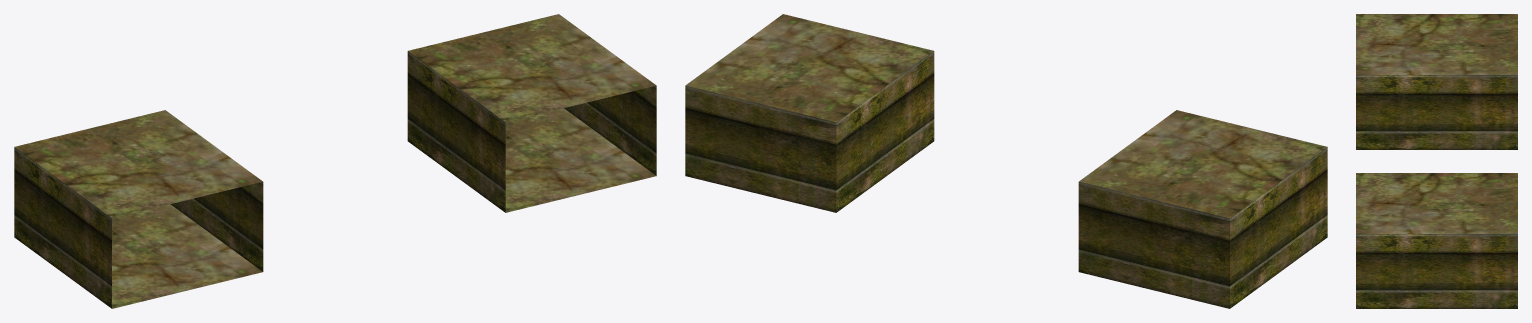
File: OVERHILL_A_01_LINE448.fbx
3 views of the same model, side by side, from view 1: azimuth 30°, elevation 25°; view 2: azimuth 150°, elevation 25°; view 3: azimuth 270°, elevation 25° (orthographic). The views are drawn at different scales.
Parts seen in each view (by area): view 1: OVERHILL_A_01_LINE448; view 2: OVERHILL_A_01_LINE448; view 3: OVERHILL_A_01_LINE448.
Part boxes in pixels (x1=…): OVERHILL_A_01_LINE448: x1=14, y1=14, x2=656, y2=308; OVERHILL_A_01_LINE448: x1=685, y1=14, x2=1327, y2=308; OVERHILL_A_01_LINE448: x1=1356, y1=14, x2=1517, y2=308.
Size of the model in its own units: 46908 by 7450 by 14592.
2 materials, 2 textured.
